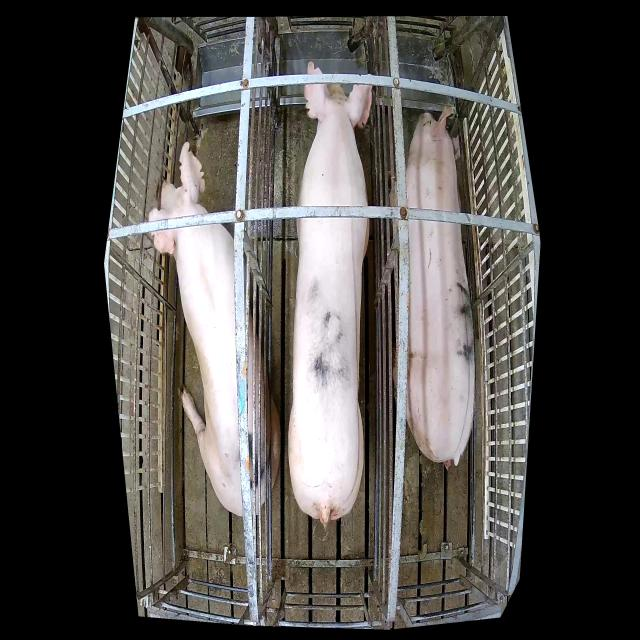pig: (149, 142, 281, 515), (287, 57, 372, 529), (389, 106, 475, 470)
